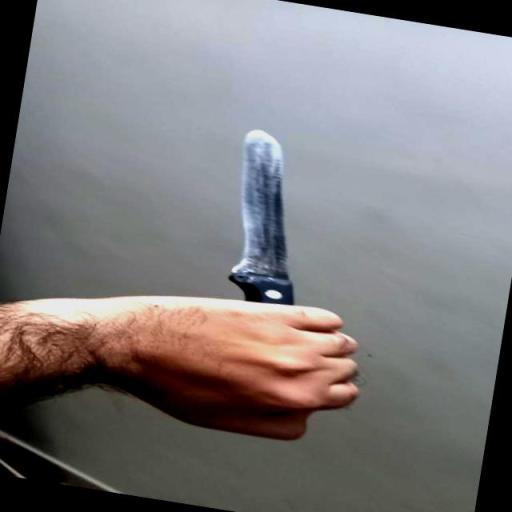knife: (188, 121, 394, 415)
